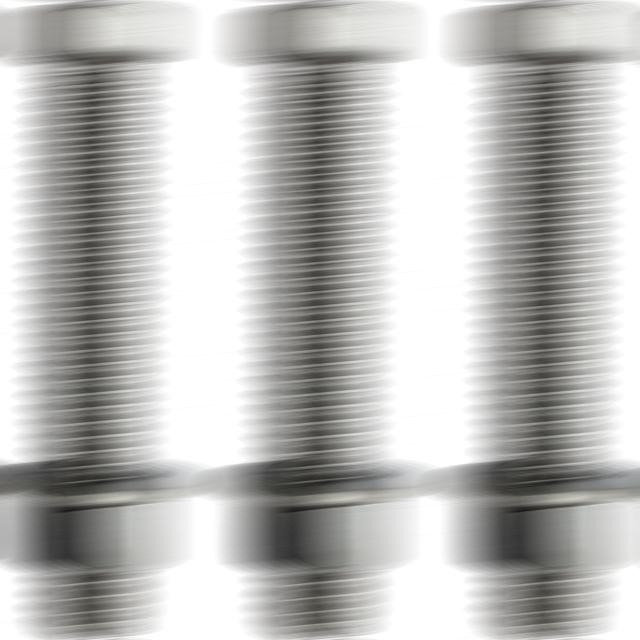Bolt: (464, 2, 629, 639), (11, 3, 174, 640), (238, 3, 399, 640)
Nut: (13, 498, 168, 580), (466, 501, 623, 580), (240, 499, 396, 578)
